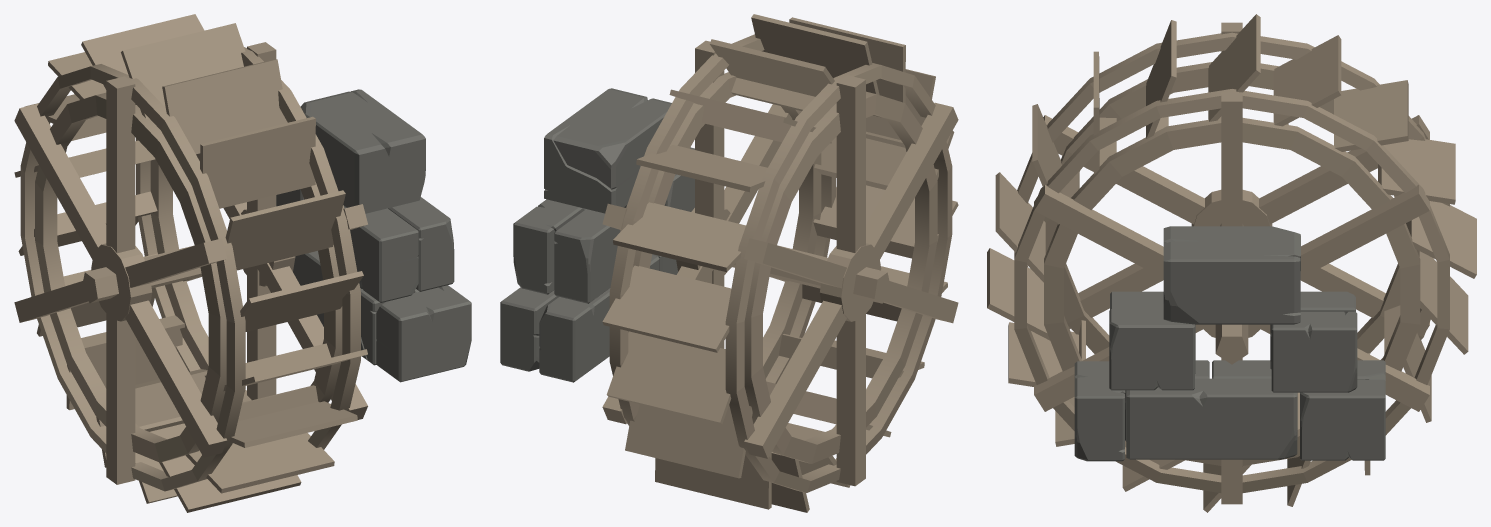
File: roue.fbx
3 renders of one model, left to right at view 1: azimuth 30°, elevation 25°; view 2: azimuth 150°, elevation 25°; view 3: azimuth 270°, elevation 25°, orthographic.
Visible parts, largest first — view 1: roue_eau, mur_roue; view 2: roue_eau, mur_roue; view 3: roue_eau, mur_roue.
Part boxes in pixels (<box>): roue_eau: <box>14,14,367,512</box>; mur_roue: <box>276,89,471,382</box>; roue_eau: <box>602,14,958,512</box>; mur_roue: <box>500,88,694,382</box>; roue_eau: <box>987,14,1476,512</box>; mur_roue: <box>1074,226,1385,461</box>.
Bounding box in the file's own units: 17.54 × 23.87 × 23.92.
